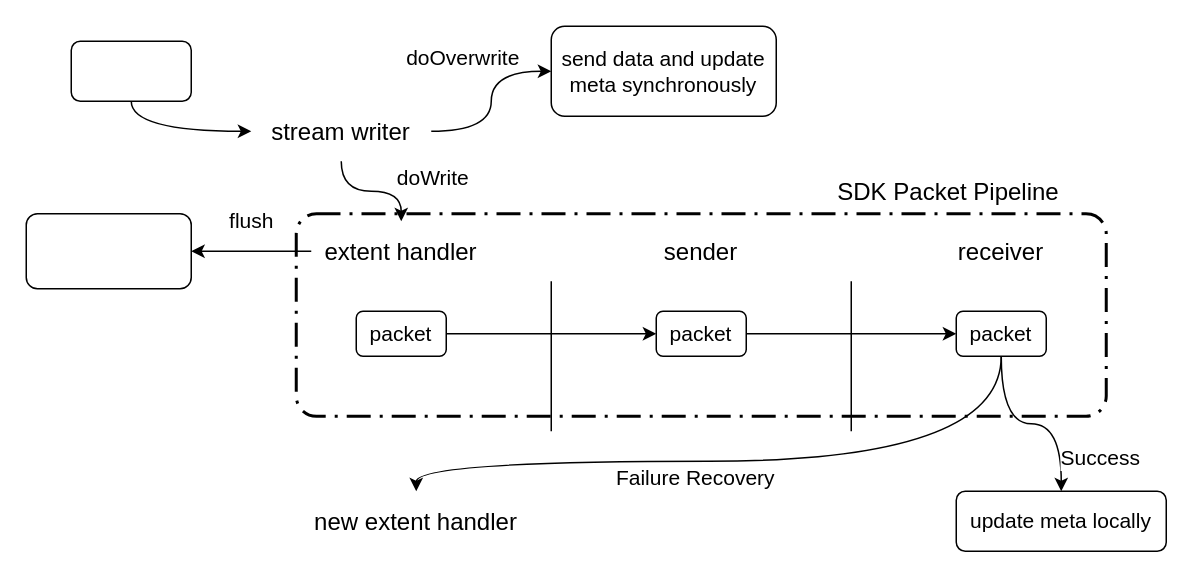
The diagram is 1193 pixels wide and 578 high, and some of its shapes have lost their labels. The centre of each missing label's shape, as x and y in pixels:
"update meta on meta node" belongs at (x=108, y=250).
"write/flush" belongs at (x=130, y=70).
